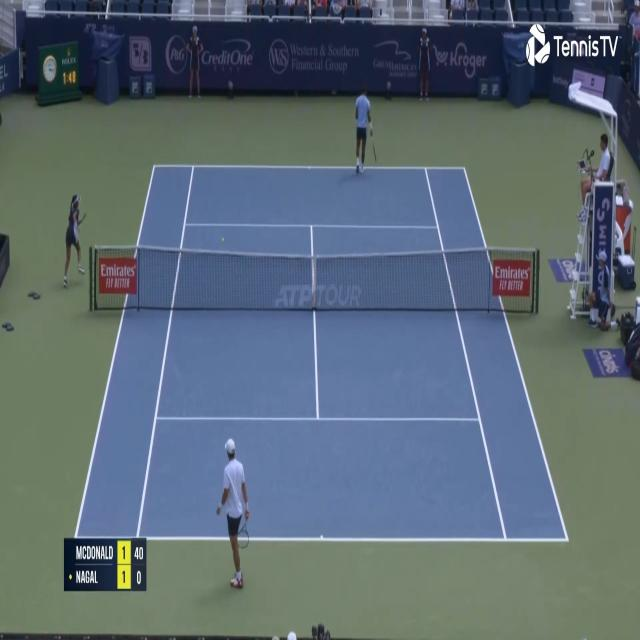tennis-player: (214, 434, 252, 594), (352, 81, 378, 176)
